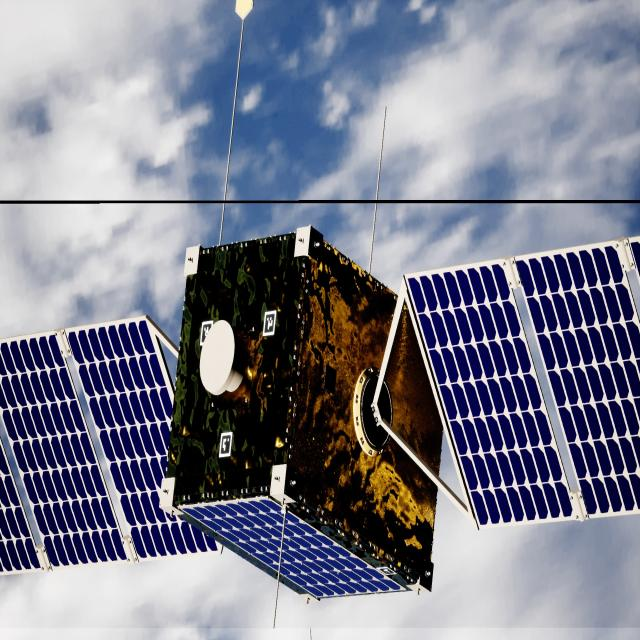satellite: (0, 227, 640, 599)
